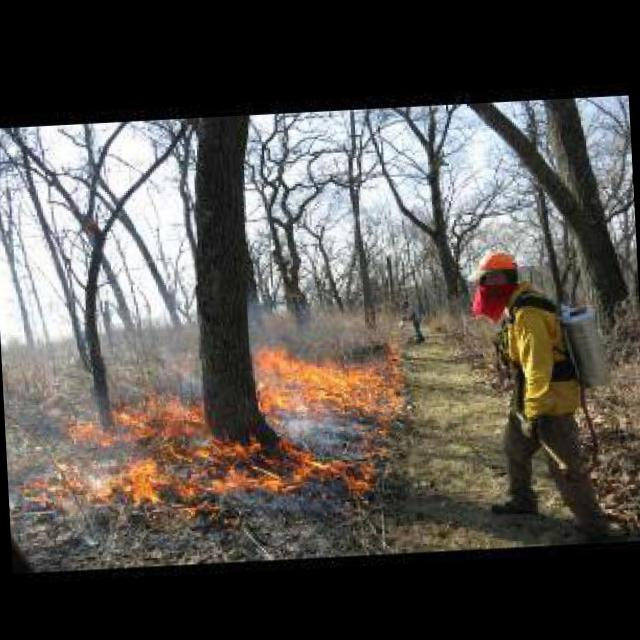fire: (57, 338, 406, 511)
